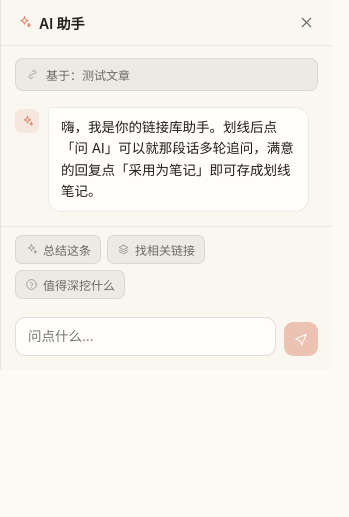
it: ChatSidebar › 后端 capability-off 时明确提示并禁用后续请求
Type "测试 capability" into the text box with placeholder "问点什么…" at (146, 337), box [15,317,276,356]
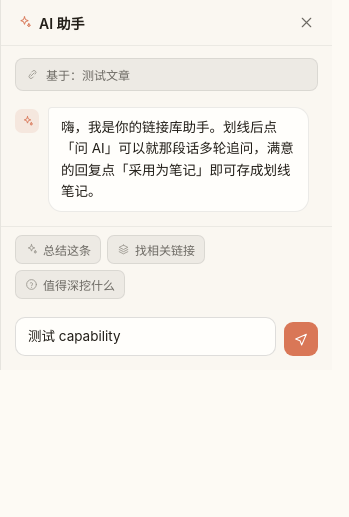
Press Enter in the text box with placeholder "问点什么…", box [15,317,276,356]
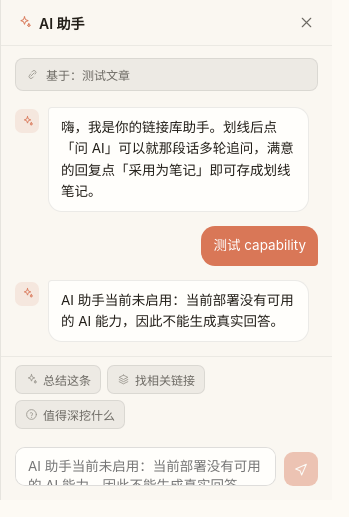
Result: the text "AI 助手当前未启用：当前部署没有可用的 AI 能力，因此不能生成真实回答。" is shown at [61,290,296,332]
Result: the text box with placeholder "AI 助手当前未启用：当前部署没有可用的 AI 能力，因此不能生成真实回答。" is disabled at [15,447,276,486]
